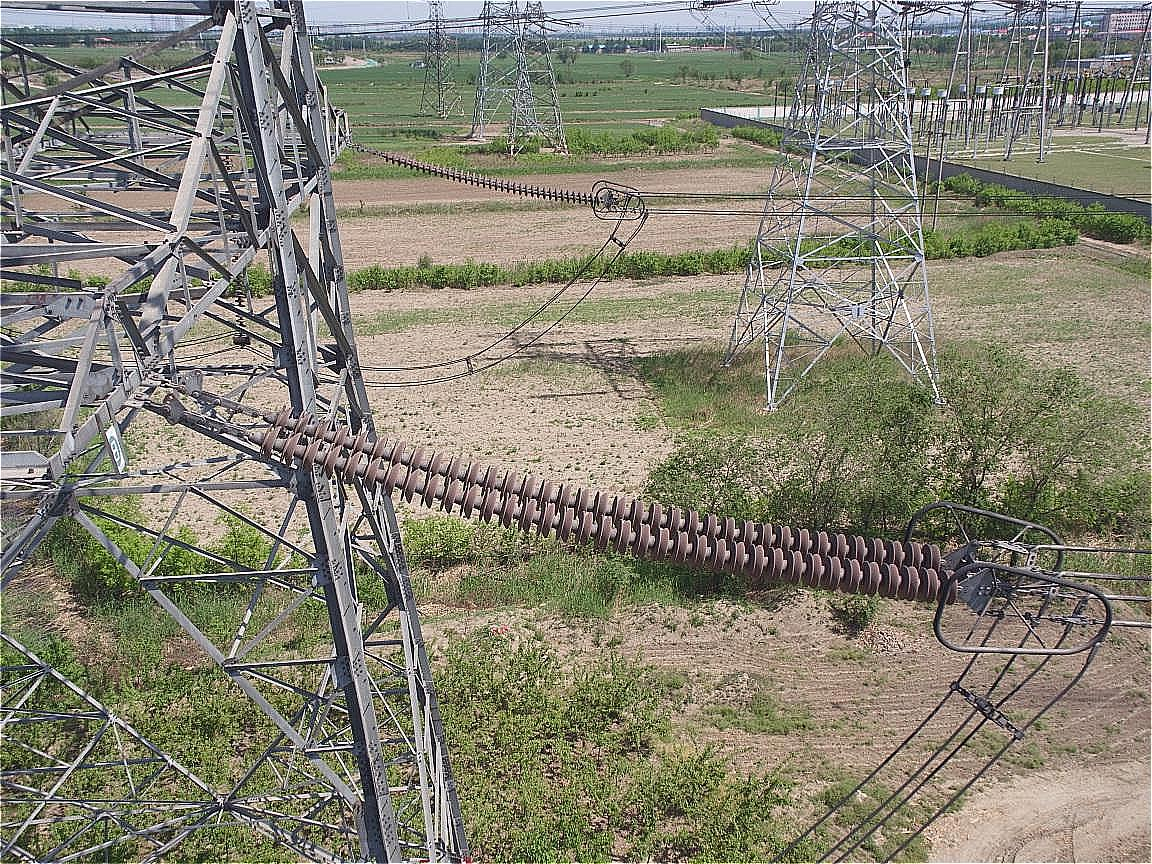insultor1: (385, 148, 602, 212)
insultor2: (261, 406, 959, 604)
